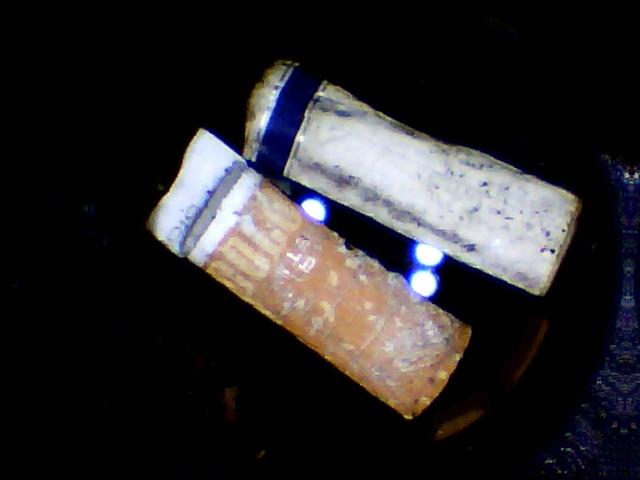megot: (131, 120, 486, 436), (211, 50, 593, 313)
